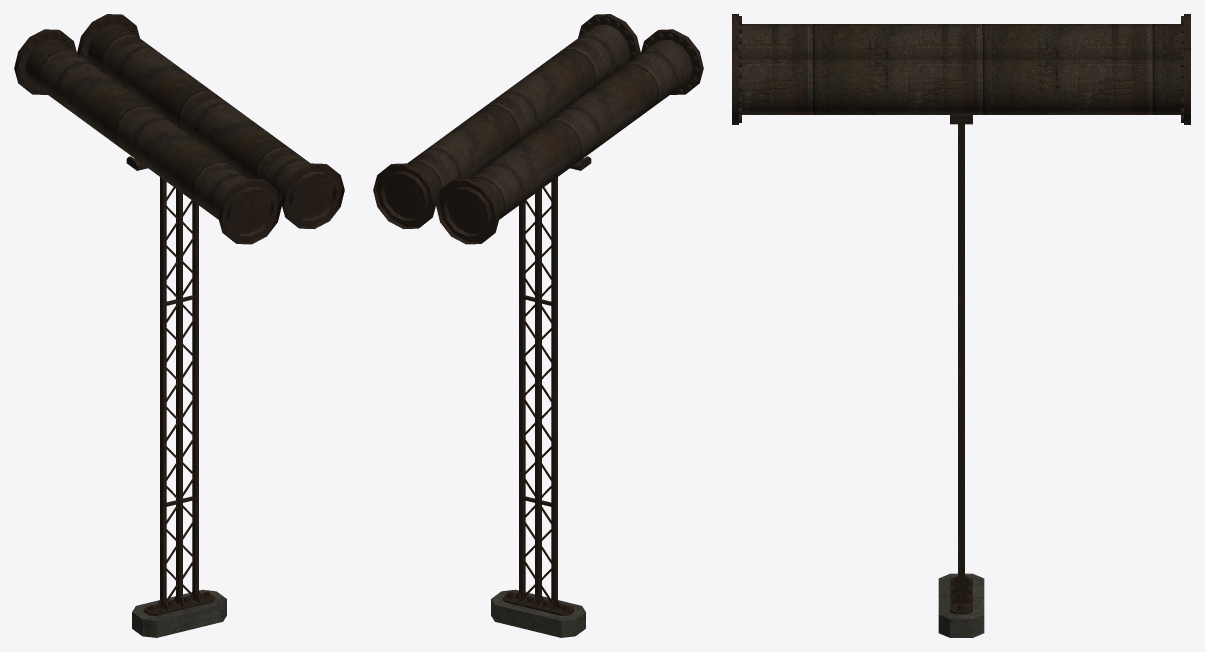
The model's file is pipe_dx_2.glb.
3 views of the same model, side by side, from view 1: azimuth 30°, elevation 25°; view 2: azimuth 150°, elevation 25°; view 3: azimuth 270°, elevation 25° (orthographic). The views are drawn at different scales.
Parts seen in each view (by area): view 1: pipe_dx_2; view 2: pipe_dx_2; view 3: pipe_dx_2.
Boxes of the visible parts, <box> form: pipe_dx_2: <box>14,14,344,637</box>; pipe_dx_2: <box>373,14,703,637</box>; pipe_dx_2: <box>732,14,1190,637</box>.
Bounding box in the file's own units: 1.38 × 5.59 × 4.
3 materials, 3 textured.
